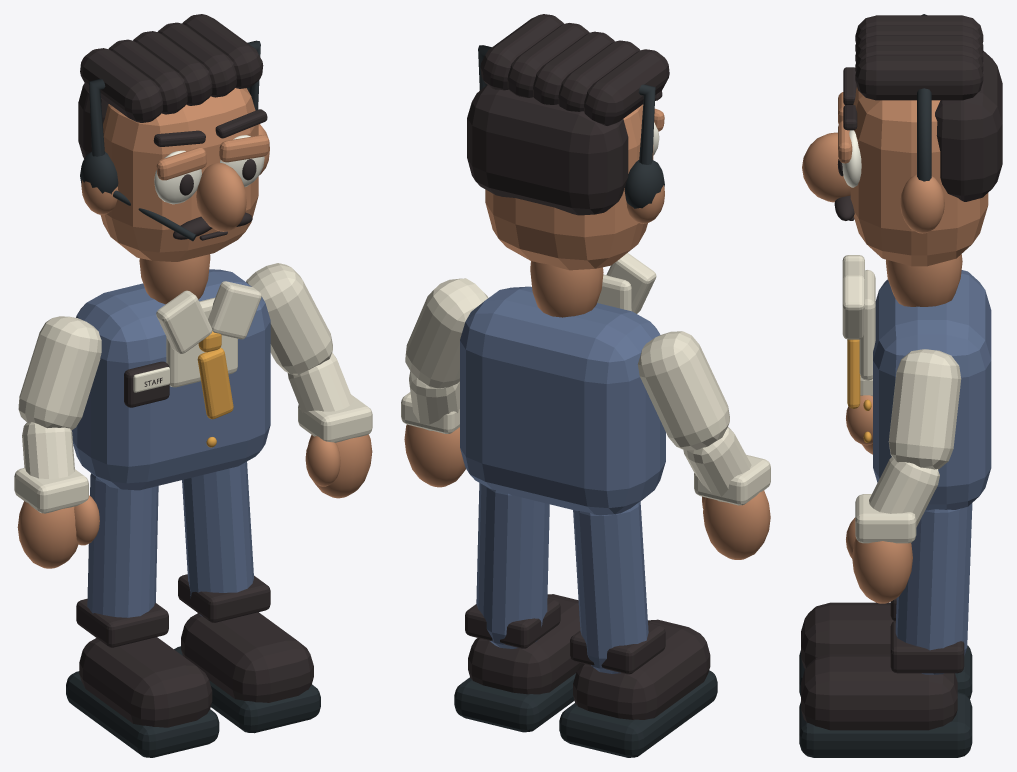
Rendered from worker_sound.glb.
3 views of the same model, side by side, from view 1: azimuth 30°, elevation 25°; view 2: azimuth 150°, elevation 25°; view 3: azimuth 270°, elevation 25° (orthographic). The views are drawn at different scales.
Visible parts, largest first — view 1: worker_sound; view 2: worker_sound; view 3: worker_sound.
Boxes of the visible parts, bbox=[...] form: worker_sound: bbox=[14, 14, 372, 757]; worker_sound: bbox=[401, 14, 770, 757]; worker_sound: bbox=[799, 14, 1002, 757].
Bounding box in the file's own units: 1.3 × 2.35 × 0.635.
